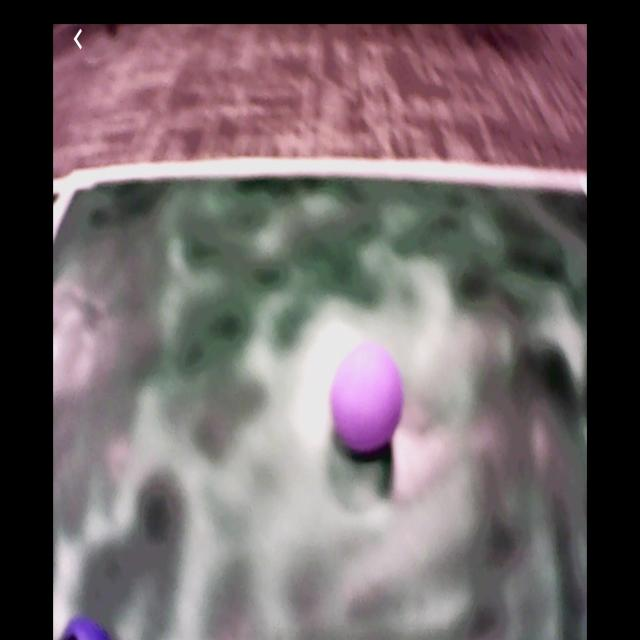ball: (331, 346, 405, 449), (63, 618, 113, 640)
